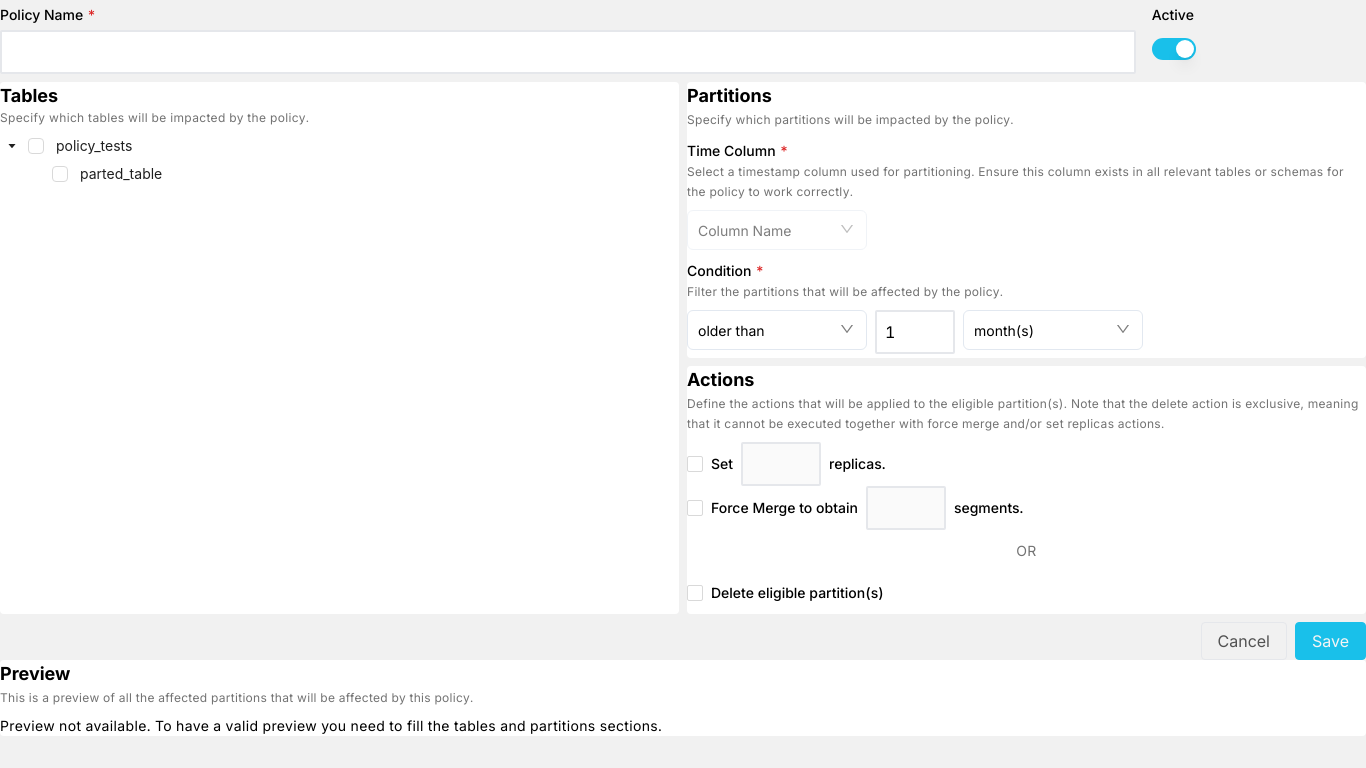
Test: The "PolicyForm" component › the "Policy Name" field › gives validation error if submitted empty
What coordinates should you click on to do the following:
click the button "Save"
I would click on:
 (1330, 641)
Its box is [1295,622,1365,660].
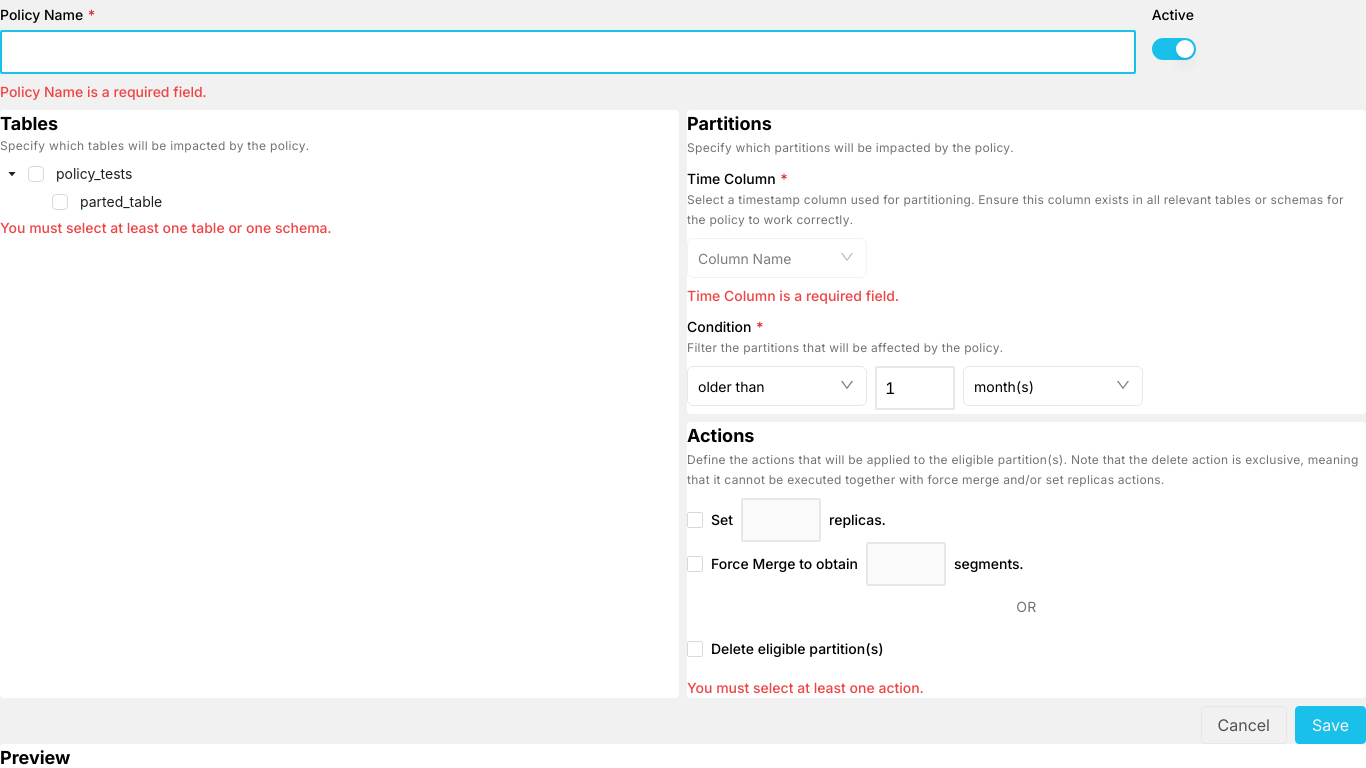
Expected: the text "Policy Name is a required field." is shown, [0,83,206,100]
